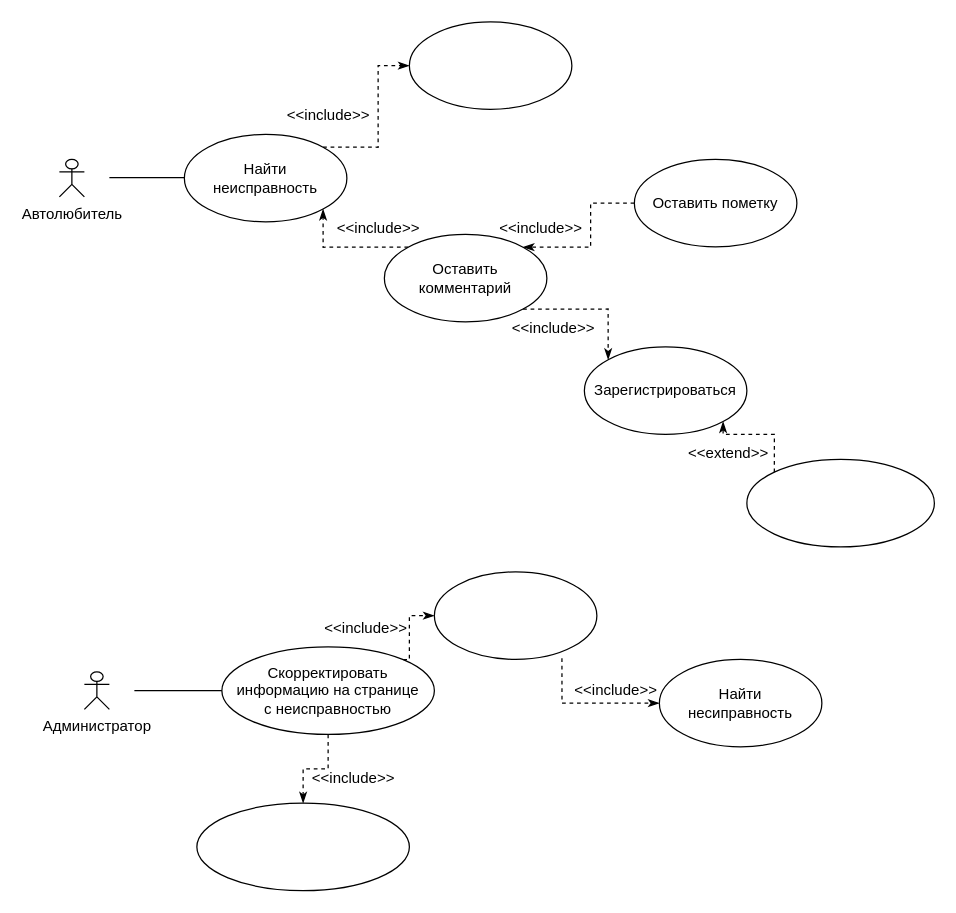
Some shapes in this 956 by 913 pixel diagram are drawn without their labels. Each missing label, with the box of its shape:
Выбрать область подкапотного пространства: (408, 21, 572, 109)
Зарегистрироваться и получить права администратора: (196, 802, 409, 891)
Найти комментарий с пометкой: (433, 571, 597, 659)
Получить НЕ персональные данные пользователя: (746, 458, 934, 547)
